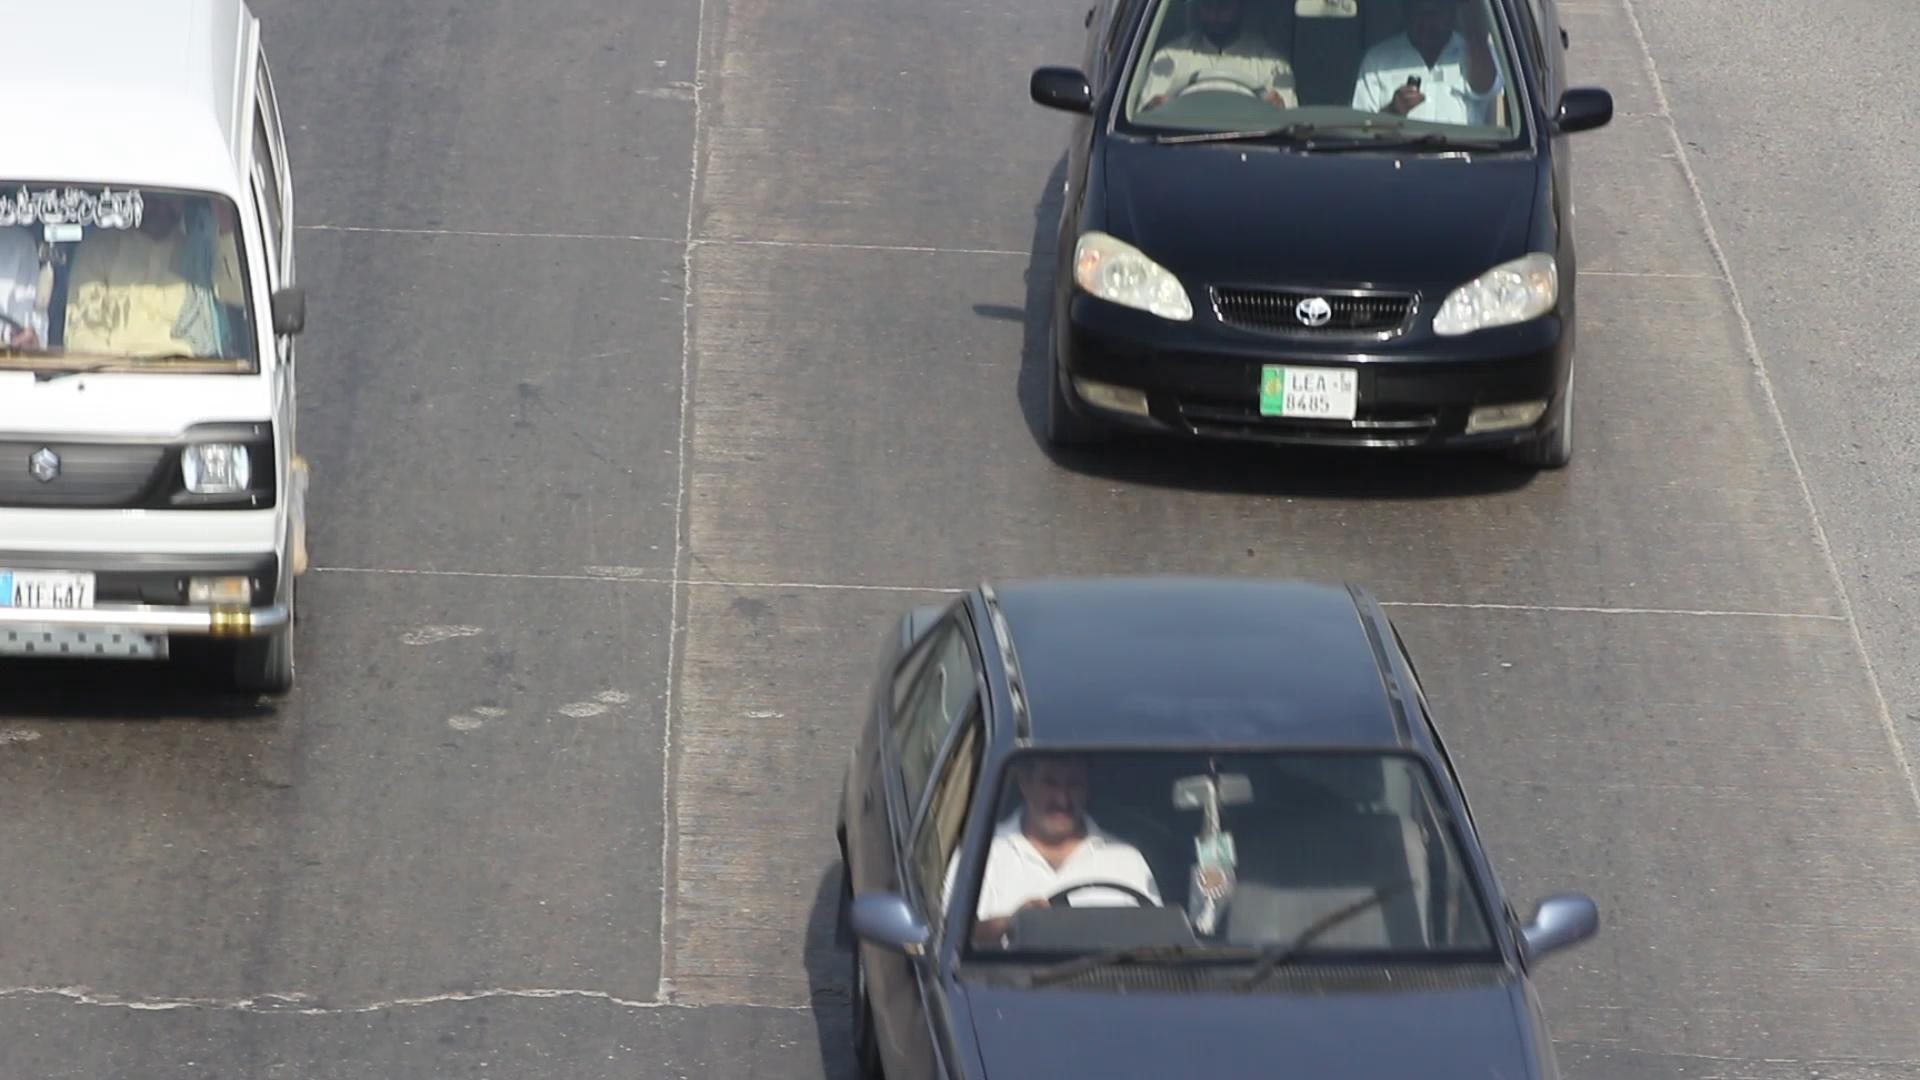windshield: (951, 720, 1527, 986)
